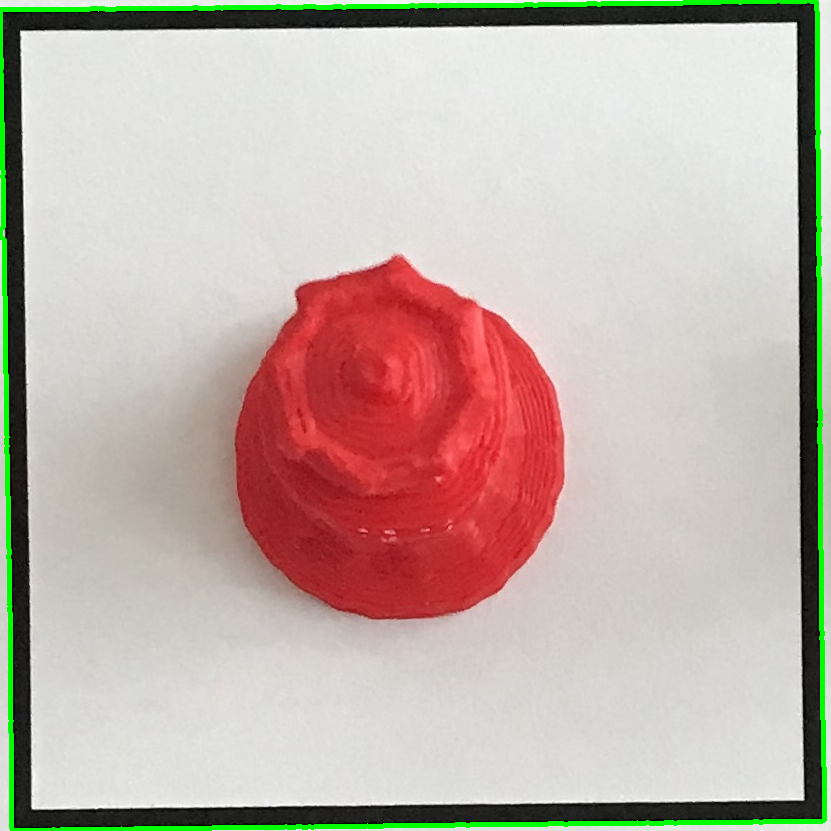Red Queen: (211, 245, 589, 640)
